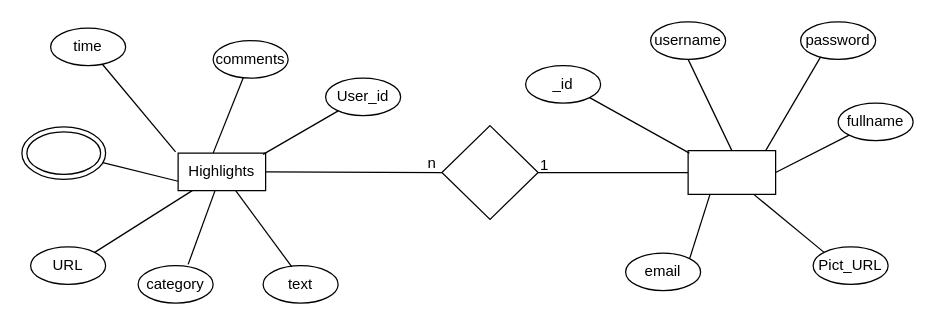
The diagram is 935 pixels wide and 325 high, and some of its shapes have lost their labels. The shapes that lost their labels are listed below. From the top down, each one's centre as x and y in pixels, then its label:
point (63, 152): tags
point (489, 171): has
point (731, 171): User
